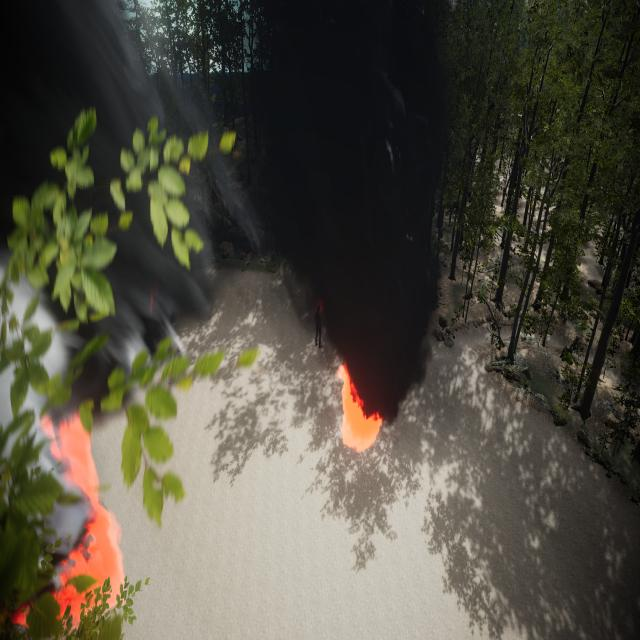Human: (309, 300, 325, 357)
